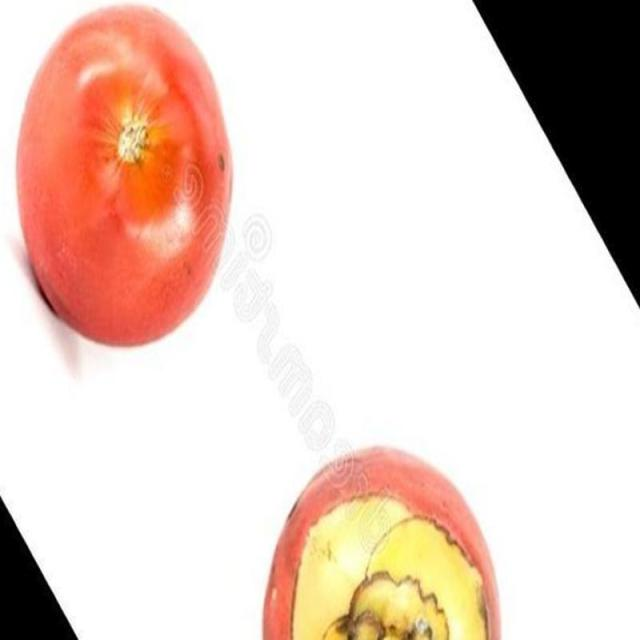good: (14, 5, 234, 352), (262, 447, 502, 639)
